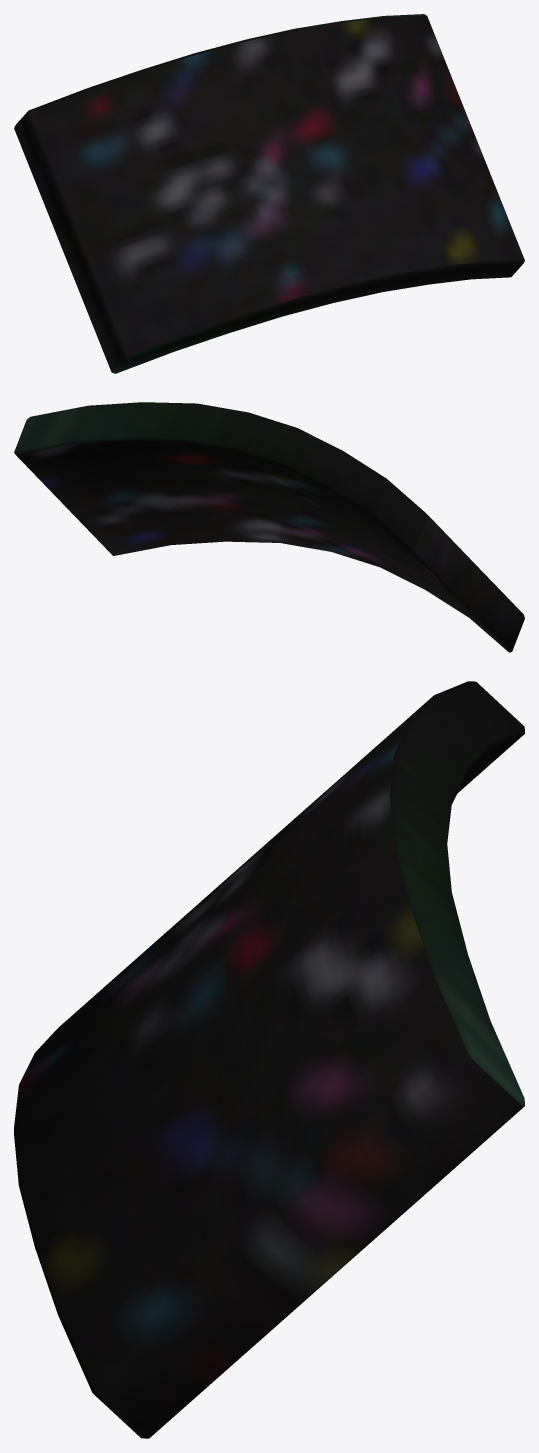
File: frontPlate.fbx
3 views of the same model, one above another, from view 1: azimuth 30°, elevation 25°; view 2: azimuth 150°, elevation 25°; view 3: azimuth 270°, elevation 25° (orthographic). The views are drawn at different scales.
Parts seen in each view (by area): view 1: 28_body_0_0.5_25.037; view 2: 28_body_0_0.5_25.037; view 3: 28_body_0_0.5_25.037.
Part boxes in pixels (x1,y1,x2,y2): 28_body_0_0.5_25.037: [14, 14, 524, 373]; 28_body_0_0.5_25.037: [14, 402, 524, 652]; 28_body_0_0.5_25.037: [14, 681, 524, 1438].
Size of the model in its own units: 62.84 by 35.63 by 36.03.
